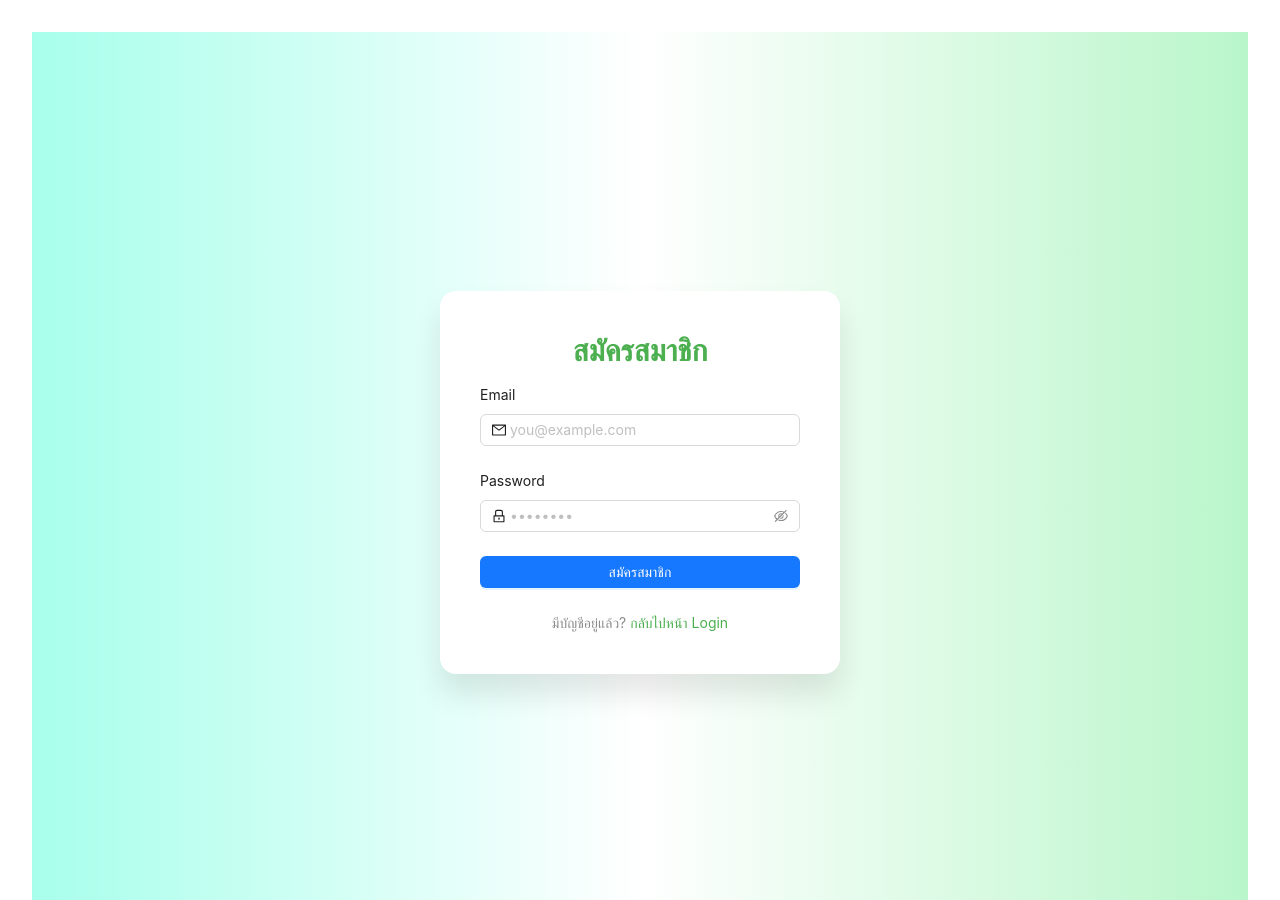
Test: Register Component › shows error for invalid email format
Type "invalid" into the field labelled "Email".
click(649, 430); type("invalid")  # box [510, 418, 788, 440]
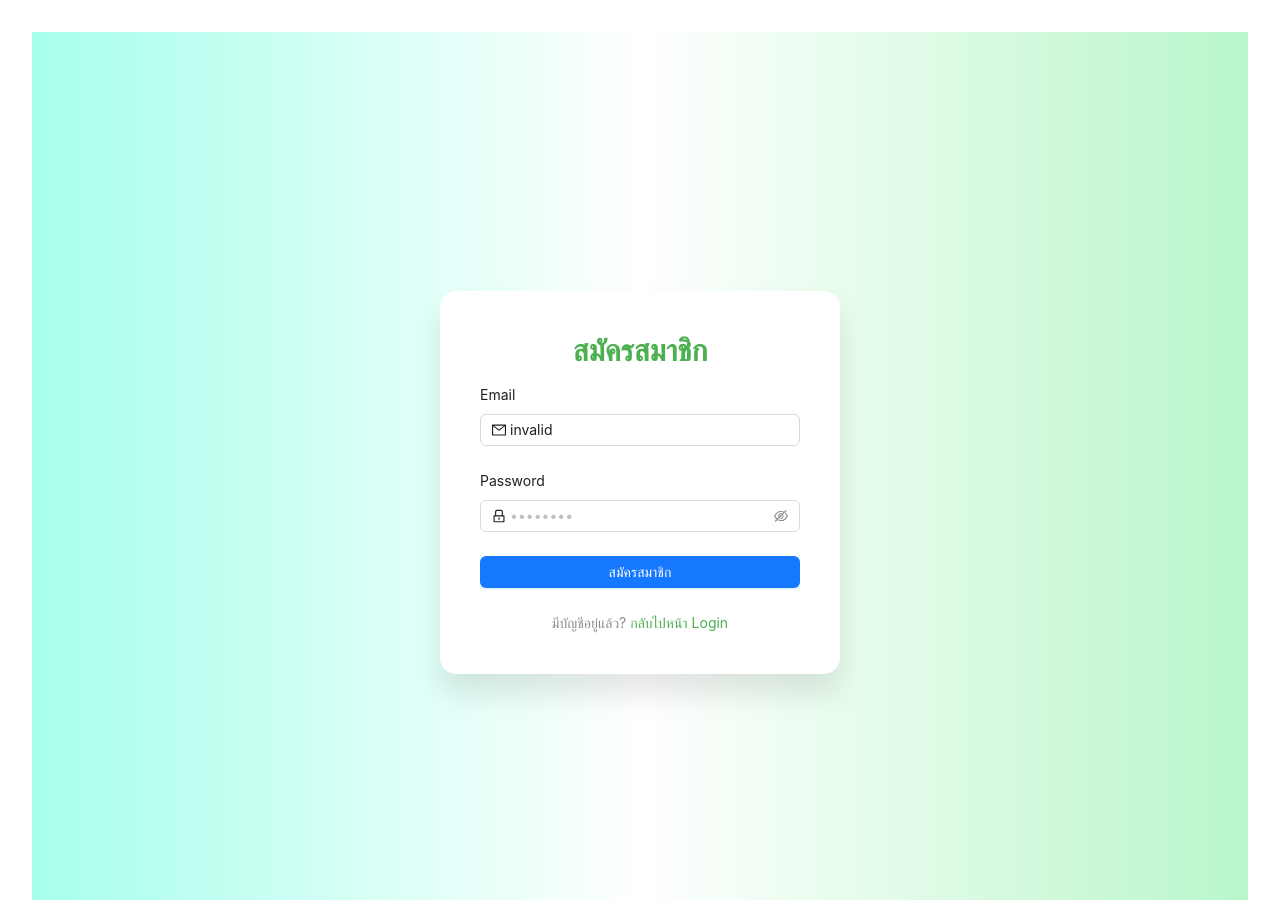
Type "123456" into the password field labelled "Password".
click(640, 516); type("123456")  # box [510, 504, 770, 526]
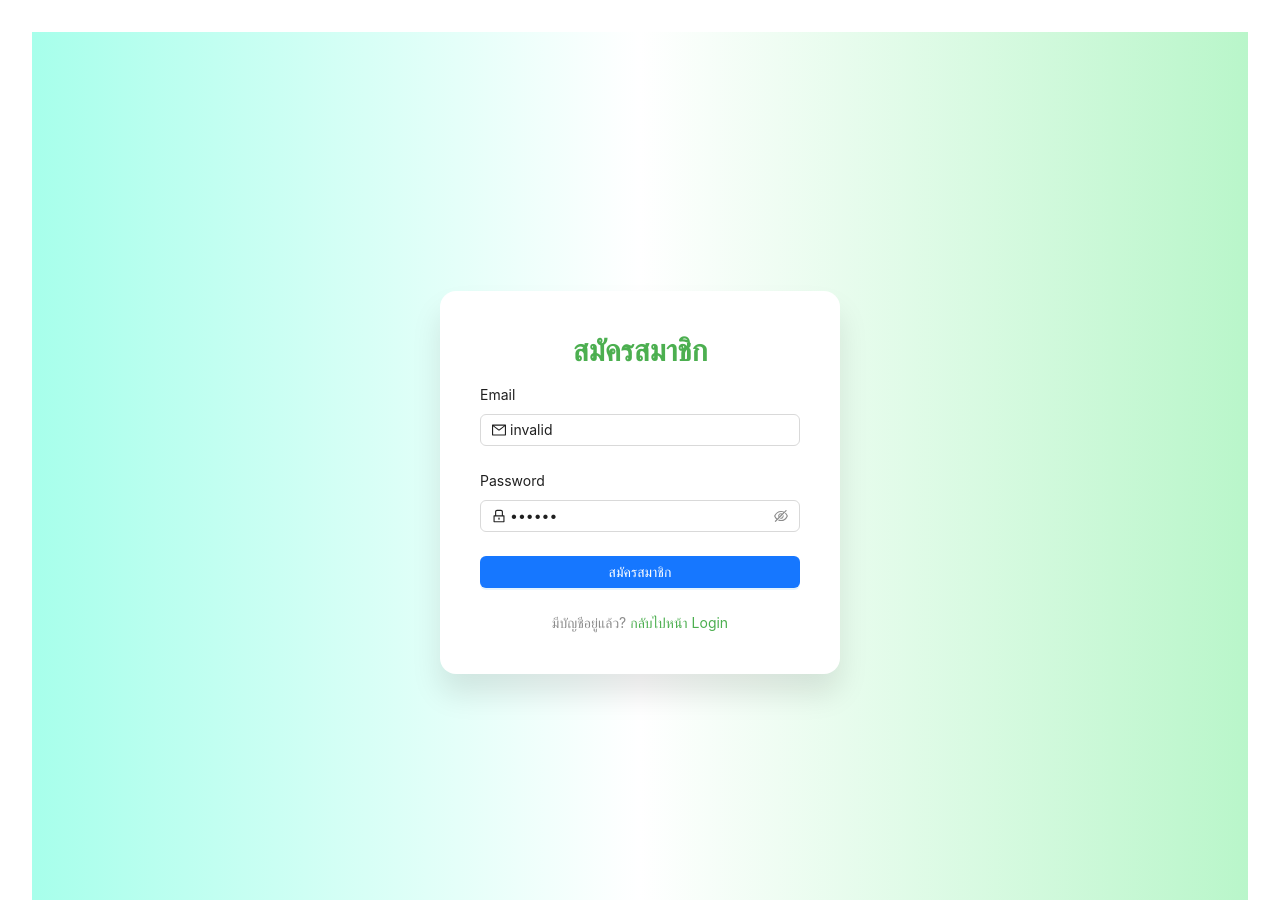
Click the button "สมัครสมาชิก".
click(640, 572)  # box [480, 556, 800, 588]
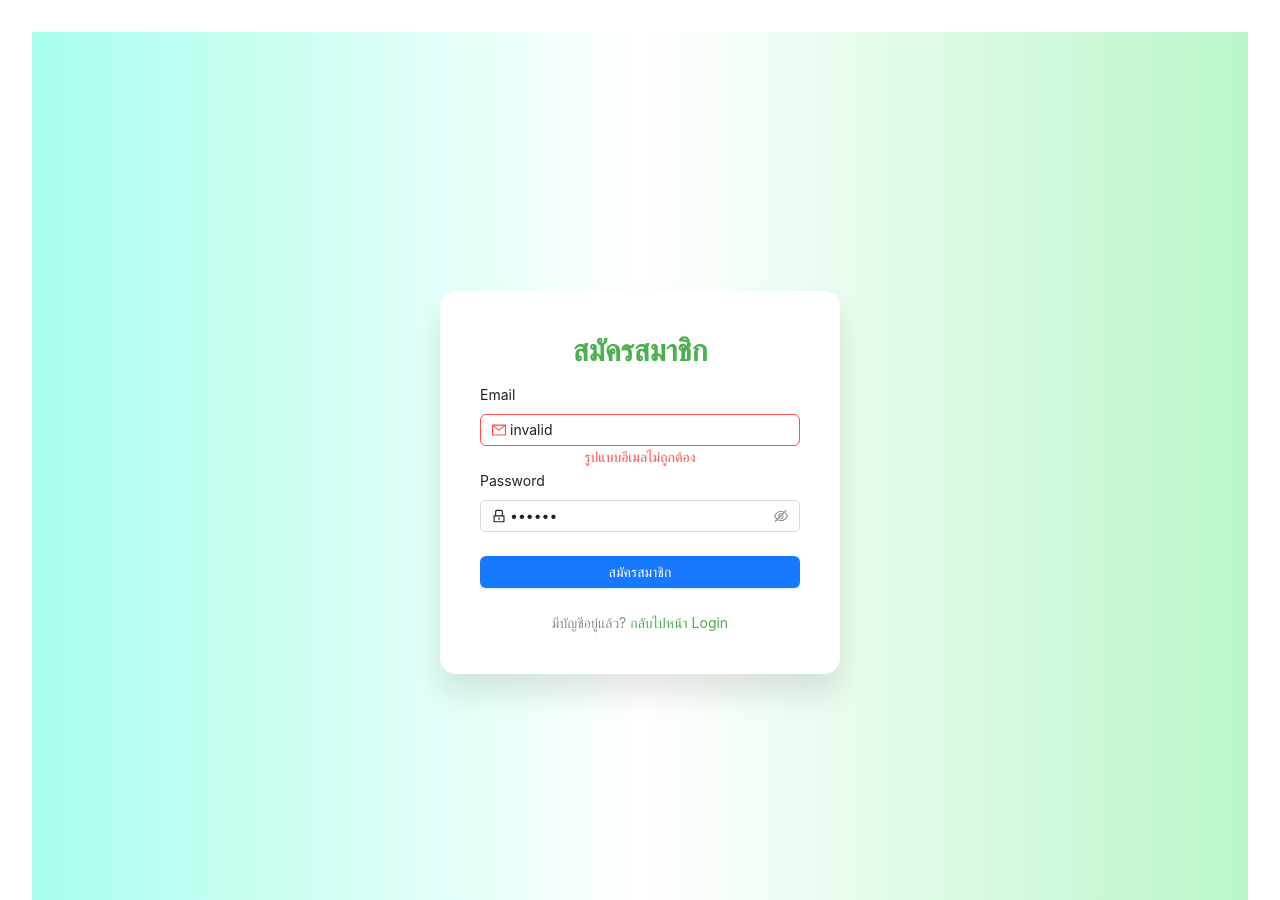
Check: the text "รูปแบบอีเมลไม่ถูกต้อง" is shown, box [584, 448, 696, 464]
